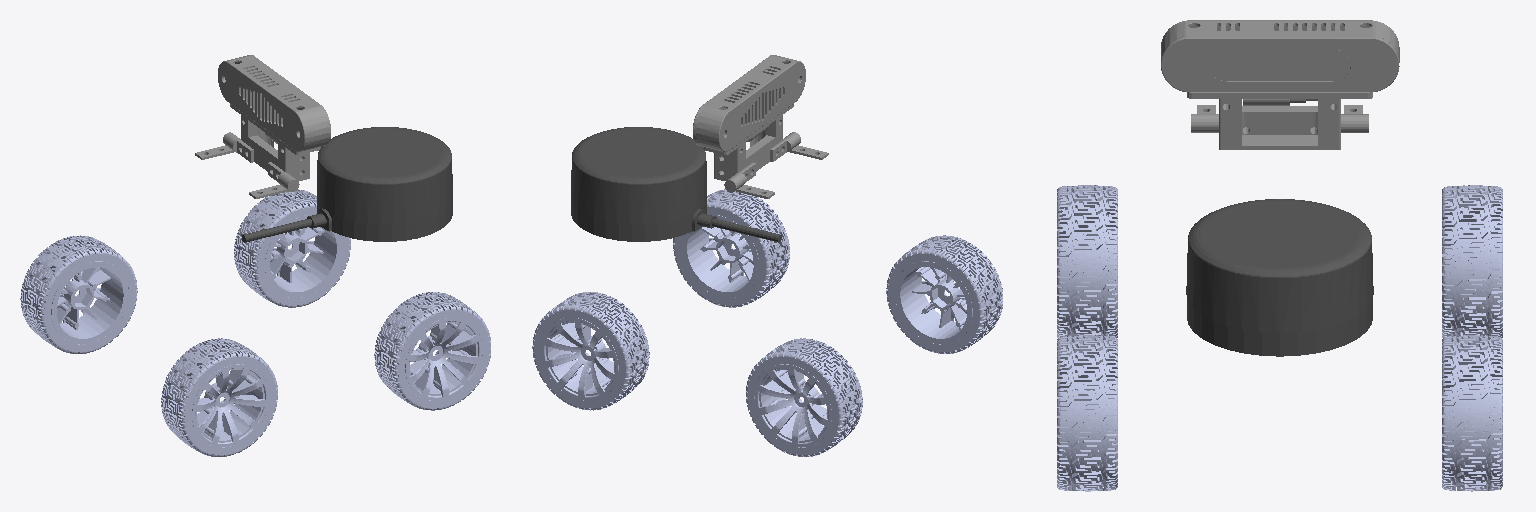
URDF robot description (v550_robot_ack_description):
<?xml version="1.0" encoding="utf-8"?>
<!-- This URDF was automatically created by SolidWorks to URDF Exporter! Originally created by [author] ([email redacted]) 
     Commit Version: 1.6.0-4-g7f85cfe  Build Version: 1.6.7995.38578
     For more information, please see http://wiki.ros.org/sw_urdf_exporter -->
<robot
  name="v550_robot_ack_description">
  <link
    name="base_link">
    <inertial>
      <origin
        xyz="-0.0156955093743002 0.000167812407275415 0.0682851211512334"
        rpy="0 0 0" />
      <mass
        value="0.426115687895387" />
      <inertia
        ixx="0.000965907358936851"
        ixy="-1.54504309400277E-06"
        ixz="1.66464348632251E-05"
        iyy="0.00192246228026252"
        iyz="2.24433199961353E-07"
        izz="0.00274216909437085" />
    </inertial>
    <visual>
      <origin
        xyz="0 0 0"
        rpy="0 0 0" />
      <geometry>
        <mesh
          filename="package://turn_on_wheeltec_robot/meshes/V550_akm_robot_meshes/base_link.STL" />
      </geometry>
      <material
        name="">
        <color
          rgba="0.741176470588235 0.901960784313726 0.956862745098039 1" />
      </material>
    </visual>
    <collision>
      <origin
        xyz="0 0 0"
        rpy="0 0 0" />
      <geometry>
        <mesh
          filename="package://turn_on_wheeltec_robot/meshes/V550_akm_robot_meshes/base_link.STL" />
      </geometry>
    </collision>
  </link>
  <link
    name="camera_Link">
    <inertial>
      <origin
        xyz="-0.0104399589126471 -0.000146928727581953 -0.0150728462184276"
        rpy="0 0 0" />
      <mass
        value="0.028640037923805" />
      <inertia
        ixx="1.75335887015322E-05"
        ixy="3.52453752354274E-09"
        ixz="-2.96081731318371E-08"
        iyy="1.91267196643144E-06"
        iyz="2.99614530165611E-09"
        izz="1.67494387173248E-05" />
    </inertial>
    <visual>
      <origin
        xyz="0 0 0"
        rpy="0 0 0" />
      <geometry>
        <mesh
          filename="package://turn_on_wheeltec_robot/meshes/V550_akm_robot_meshes/camera_Link.STL" />
      </geometry>
      <material
        name="">
        <color
          rgba="0.627450980392157 0.627450980392157 0.627450980392157 1" />
      </material>
    </visual>
    <collision>
      <origin
        xyz="0 0 0"
        rpy="0 0 0" />
      <geometry>
        <mesh
          filename="package://turn_on_wheeltec_robot/meshes/V550_akm_robot_meshes/camera_Link.STL" />
      </geometry>
    </collision>
  </link>
  <joint
    name="camera_joint"
    type="fixed">
    <origin
      xyz="0.034288 5.605E-05 0.17271"
      rpy="0 0 0" />
    <parent
      link="base_link" />
    <child
      link="camera_Link" />
    <axis
      xyz="0 0 0" />
  </joint>
  <link
    name="lidar_Link">
    <inertial>
      <origin
        xyz="-0.00250630311444935 4.56584075365223E-06 0.00608265171398317"
        rpy="0 0 0" />
      <mass
        value="0.0374307357732493" />
      <inertia
        ixx="2.80476450246834E-05"
        ixy="-2.19900316058061E-09"
        ixz="-1.0711843868727E-06"
        iyy="3.36164872388918E-05"
        iyz="-6.83963733327609E-10"
        izz="4.50845485883219E-05" />
    </inertial>
    <visual>
      <origin
        xyz="0 0 0"
        rpy="0 0 0" />
      <geometry>
        <mesh
          filename="package://turn_on_wheeltec_robot/meshes/V550_akm_robot_meshes/lidar_Link.STL" />
      </geometry>
      <material
        name="">
        <color
          rgba="0.376470588235294 0.376470588235294 0.376470588235294 1" />
      </material>
    </visual>
    <collision>
      <origin
        xyz="0 0 0"
        rpy="0 0 0" />
      <geometry>
        <mesh
          filename="package://turn_on_wheeltec_robot/meshes/V550_akm_robot_meshes/lidar_Link.STL" />
      </geometry>
    </collision>
  </link>
  <joint
    name="lidar_joint"
    type="fixed">
    <origin
      xyz="0.099309 0 0.096024"
      rpy="0 0 0" />
    <parent
      link="base_link" />
    <child
      link="lidar_Link" />
    <axis
      xyz="0 0 0" />
  </joint>
  <link
    name="f_l_link">
    <inertial>
      <origin
        xyz="4.97883802241805E-09 -0.0029694703939309 -4.95700029114199E-08"
        rpy="0 0 0" />
      <mass
        value="0.0437084164824698" />
      <inertia
        ixx="1.79426399357041E-05"
        ixy="1.01076586055769E-11"
        ixz="3.32027539343488E-12"
        iyy="3.11204827864545E-05"
        iyz="-1.74090133193252E-11"
        izz="1.79426375850488E-05" />
    </inertial>
    <visual>
      <origin
        xyz="0 0 0"
        rpy="0 0 0" />
      <geometry>
        <mesh
          filename="package://turn_on_wheeltec_robot/meshes/V550_akm_robot_meshes/f_l_link.STL" />
      </geometry>
      <material
        name="">
        <color
          rgba="0.792156862745098 0.819607843137255 0.933333333333333 1" />
      </material>
    </visual>
    <collision>
      <origin
        xyz="0 0 0"
        rpy="0 0 0" />
      <geometry>
        <mesh
          filename="package://turn_on_wheeltec_robot/meshes/V550_akm_robot_meshes/f_l_link.STL" />
      </geometry>
    </collision>
  </link>
  <joint
    name="f_l_joint"
    type="continuous">
    <origin
      xyz="0.084421 0.085111 0.033"
      rpy="0 0 0" />
    <parent
      link="base_link" />
    <child
      link="f_l_link" />
    <axis
      xyz="0 -1 0" />
  </joint>
  <link
    name="f_r_link">
    <inertial>
      <origin
        xyz="-3.19741280535579E-08 0.00296947034067659 -3.72579770837461E-08"
        rpy="0 0 0" />
      <mass
        value="0.043708416132762" />
      <inertia
        ixx="1.7942636053809E-05"
        ixy="1.93985117723528E-11"
        ixz="-1.87740535762806E-12"
        iyy="3.11204824365473E-05"
        iyz="8.33197254204452E-12"
        izz="1.79426410767556E-05" />
    </inertial>
    <visual>
      <origin
        xyz="0 0 0"
        rpy="0 0 0" />
      <geometry>
        <mesh
          filename="package://turn_on_wheeltec_robot/meshes/V550_akm_robot_meshes/f_r_link.STL" />
      </geometry>
      <material
        name="">
        <color
          rgba="0.792156862745098 0.819607843137255 0.933333333333333 1" />
      </material>
    </visual>
    <collision>
      <origin
        xyz="0 0 0"
        rpy="0 0 0" />
      <geometry>
        <mesh
          filename="package://turn_on_wheeltec_robot/meshes/V550_akm_robot_meshes/f_r_link.STL" />
      </geometry>
    </collision>
  </link>
  <joint
    name="f_r_joint"
    type="continuous">
    <origin
      xyz="0.08444 -0.085164 0.033"
      rpy="0 0 0" />
    <parent
      link="base_link" />
    <child
      link="f_r_link" />
    <axis
      xyz="0 1 0" />
  </joint>
  <link
    name="r_r_link">
    <inertial>
      <origin
        xyz="-4.72018535646601E-08 0.00296947085111417 -1.53772663769036E-08"
        rpy="0 0 0" />
      <mass
        value="0.0437084145724646" />
      <inertia
        ixx="1.79426351166838E-05"
        ixy="1.97960020034279E-11"
        ixz="1.41725549491033E-12"
        iyy="3.11204822304997E-05"
        iyz="-1.57525914707492E-12"
        izz="1.79426415060117E-05" />
    </inertial>
    <visual>
      <origin
        xyz="0 0 0"
        rpy="0 0 0" />
      <geometry>
        <mesh
          filename="package://turn_on_wheeltec_robot/meshes/V550_akm_robot_meshes/r_r_link.STL" />
      </geometry>
      <material
        name="">
        <color
          rgba="0.792156862745098 0.819607843137255 0.933333333333333 1" />
      </material>
    </visual>
    <collision>
      <origin
        xyz="0 0 0"
        rpy="0 0 0" />
      <geometry>
        <mesh
          filename="package://turn_on_wheeltec_robot/meshes/V550_akm_robot_meshes/r_r_link.STL" />
      </geometry>
    </collision>
  </link>
  <joint
    name="r_r_joint"
    type="continuous">
    <origin
      xyz="-0.058832 -0.0852 0.0365"
      rpy="0 0 0" />
    <parent
      link="base_link" />
    <child
      link="r_r_link" />
    <axis
      xyz="0 1 0" />
  </joint>
  <link
    name="r_l_link">
    <inertial>
      <origin
        xyz="-2.42357146296168E-08 -0.00296947040355186 -4.26581211986077E-08"
        rpy="0 0 0" />
      <mass
        value="0.0437084164179523" />
      <inertia
        ixx="1.79426418194424E-05"
        ixy="-2.99881004687699E-12"
        ixz="-3.55062589373155E-14"
        iyy="3.11204825991065E-05"
        iyz="-1.96589651426672E-11"
        izz="1.79426355027658E-05" />
    </inertial>
    <visual>
      <origin
        xyz="0 0 0"
        rpy="0 0 0" />
      <geometry>
        <mesh
          filename="package://turn_on_wheeltec_robot/meshes/V550_akm_robot_meshes/r_l_link.STL" />
      </geometry>
      <material
        name="">
        <color
          rgba="0.792156862745098 0.819607843137255 0.933333333333333 1" />
      </material>
    </visual>
    <collision>
      <origin
        xyz="0 0 0"
        rpy="0 0 0" />
      <geometry>
        <mesh
          filename="package://turn_on_wheeltec_robot/meshes/V550_akm_robot_meshes/r_l_link.STL" />
      </geometry>
    </collision>
  </link>
  <joint
    name="r_l_joint"
    type="continuous">
    <origin
      xyz="-0.058832 0.0852 0.0365"
      rpy="0 0 0" />
    <parent
      link="base_link" />
    <child
      link="r_l_link" />
    <axis
      xyz="0 -1 0" />
  </joint>
</robot>

--- What the picture shows (computed from the rendered views, not written in the file) ---
3 views of the same robot in one strip: view 1: azimuth 30°, elevation 25°; view 2: azimuth 150°, elevation 25°; view 3: azimuth 270°, elevation 25° (orthographic).
Model v550_robot_ack_description with 7 links and 6 joints (4 continuous, 2 fixed), rooted at base_link, posed every joint at zero.
Links seen in each view (by area): view 1: lidar_Link, r_l_link, f_r_link, r_r_link, camera_Link, f_l_link; view 2: lidar_Link, r_r_link, r_l_link, f_l_link, camera_Link, f_r_link; view 3: lidar_Link, camera_Link, f_r_link, f_l_link, r_r_link, r_l_link.
Boxes of the visible links, <box> form: lidar_Link: <box>242,127,452,242</box>; r_l_link: <box>20,235,137,353</box>; f_r_link: <box>374,292,490,410</box>; r_r_link: <box>161,338,277,456</box>; camera_Link: <box>195,55,330,198</box>; f_l_link: <box>234,189,350,307</box>; lidar_Link: <box>571,127,781,242</box>; r_r_link: <box>886,235,1002,353</box>; r_l_link: <box>746,338,862,456</box>; f_l_link: <box>532,292,649,410</box>; camera_Link: <box>693,55,828,198</box>; f_r_link: <box>673,189,789,307</box>; lidar_Link: <box>1186,199,1373,356</box>; camera_Link: <box>1161,20,1399,149</box>; f_r_link: <box>1057,335,1117,491</box>; f_l_link: <box>1442,335,1502,491</box>; r_r_link: <box>1057,185,1117,339</box>; r_l_link: <box>1442,185,1502,339</box>.
Size in the robot's own frame: 0.2311 by 0.1896 by 0.1857 metres.
6 mesh visuals loaded from 7 distinct referenced files (6 binary STL); not drawn: 1 (reference not matched to a file when rendering).